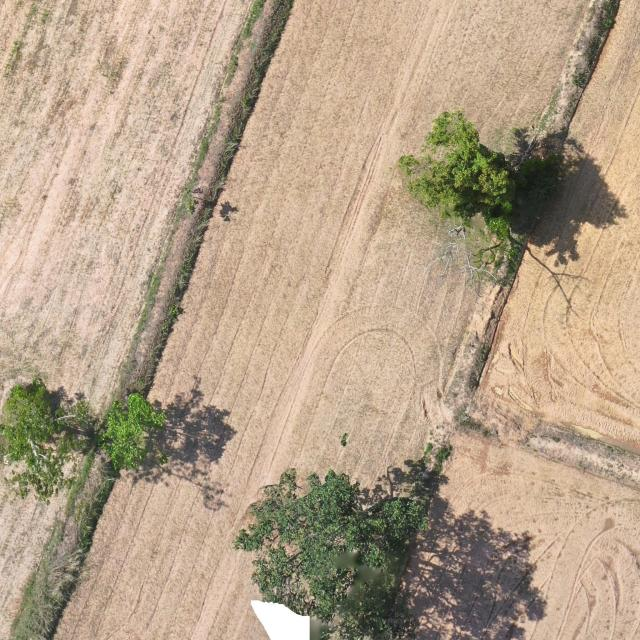Tree: (231, 465, 439, 640), (395, 109, 529, 298), (0, 376, 172, 506)
